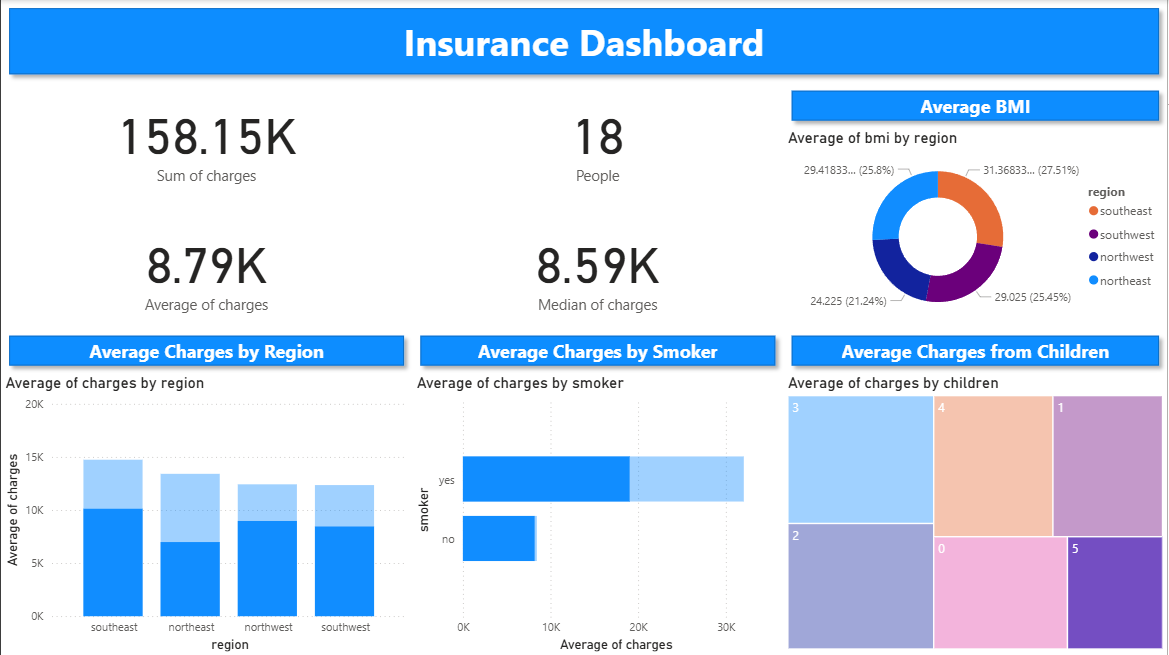

This screenshot's page, from the dashboard's own definition file:
{"tool":"powerbi","page":{"name":"Page 1","canvas":[1280,720],"ordinal":0},"visuals":[{"type":"shape","box":[0,0,1280.3,90.6],"z":0},{"type":"clusteredBarChart","fields":{"Y":["Avg(insurance.charges)"],"Category":["insurance.smoker"]},"box":[451.5,410.3,407.5,310.1],"z":1000},{"type":"shape","box":[0,359.5,451.5,50.8],"z":2000},{"type":"clusteredColumnChart","fields":{"Category":["insurance.region"],"Y":["Avg(insurance.charges)"]},"box":[0,410.3,451.5,310.1],"z":3000},{"type":"treemap","fields":{"Group":["insurance.children"],"Values":["Avg(insurance.charges)"]},"box":[859,410.3,421.3,307.4],"z":4000},{"type":"shape","box":[451.5,359.5,407.5,50.8],"z":5000},{"type":"shape","box":[859,359.5,421.3,50.8],"z":6000},{"type":"card","fields":{"Values":["Sum(insurance.charges)"]},"box":[0,90.6,451.5,127.6],"z":7000},{"type":"card","fields":{"Values":["Avg(insurance.charges)"]},"box":[0,231.9,451.5,127.6],"z":8000},{"type":"card","fields":{"Values":["Count(insurance.charges)"]},"box":[451.5,90.6,407.5,127.6],"z":9000},{"type":"card","fields":{"Values":["Median(insurance.charges)"]},"box":[451.5,231.9,407.5,127.6],"z":10000},{"type":"donutChart","fields":{"Y":["Avg(insurance.bmi)"],"Category":["insurance.region"]},"box":[859,141.3,421.3,218.2],"z":11000},{"type":"shape","box":[859,90.6,421.3,50.8],"z":11001}]}

Visuals, with their boxes in screenshot pixels (x1, y1, x2, y2), scaled from the page's 1280x720 canvas onto the 1169x655 screenshot:
shape: 0:0:1168:82
clusteredBarChart - Avg(insurance.charges) x insurance.smoker: 412:373:785:654
shape: 0:327:412:373
clusteredColumnChart - insurance.region x Avg(insurance.charges): 0:373:412:654
treemap - insurance.children x Avg(insurance.charges): 785:373:1168:653
shape: 412:327:785:373
shape: 785:327:1168:373
card - Sum(insurance.charges): 0:82:412:199
card - Avg(insurance.charges): 0:211:412:327
card - Count(insurance.charges): 412:82:785:199
card - Median(insurance.charges): 412:211:785:327
donutChart - Avg(insurance.bmi) x insurance.region: 785:129:1168:327
shape: 785:82:1168:129
